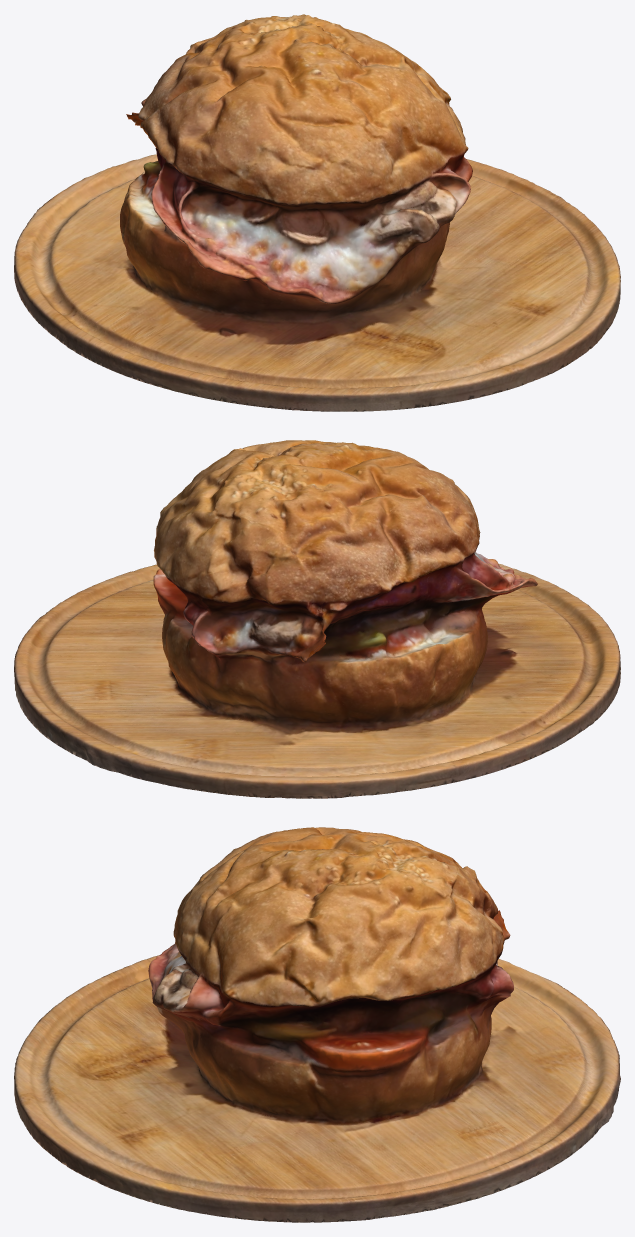
Rendered from Royal.burger (2).glb.
The picture shows the model from 3 angles, top to bottom: view 1: azimuth 30°, elevation 25°; view 2: azimuth 150°, elevation 25°; view 3: azimuth 270°, elevation 25°; orthographic projection.
Parts seen in each view (by area): view 1: 3DModel; view 2: 3DModel; view 3: 3DModel.
Boxes of the visible parts, x1,y1,x2,y2 form: 3DModel: [14, 14, 620, 411]; 3DModel: [14, 440, 620, 798]; 3DModel: [14, 827, 620, 1222].
Bounding box in the file's own units: 0.3412 × 0.1521 × 0.3424.
Materials: 1 (1 with a texture image).
